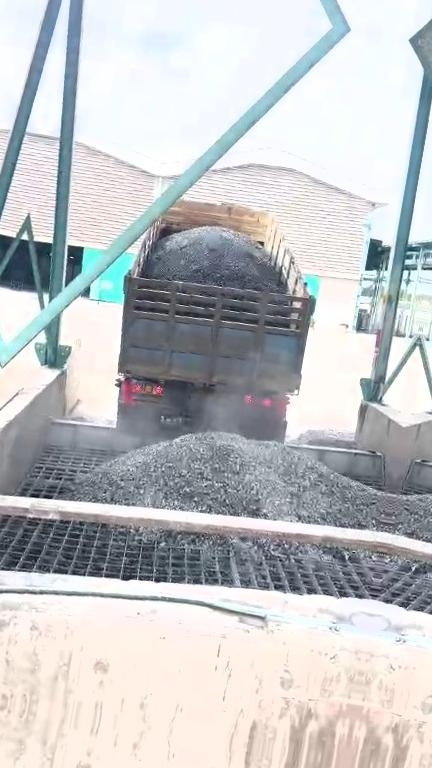gravel: (64, 432, 385, 529), (119, 528, 377, 572), (143, 226, 285, 292), (296, 428, 356, 448)
